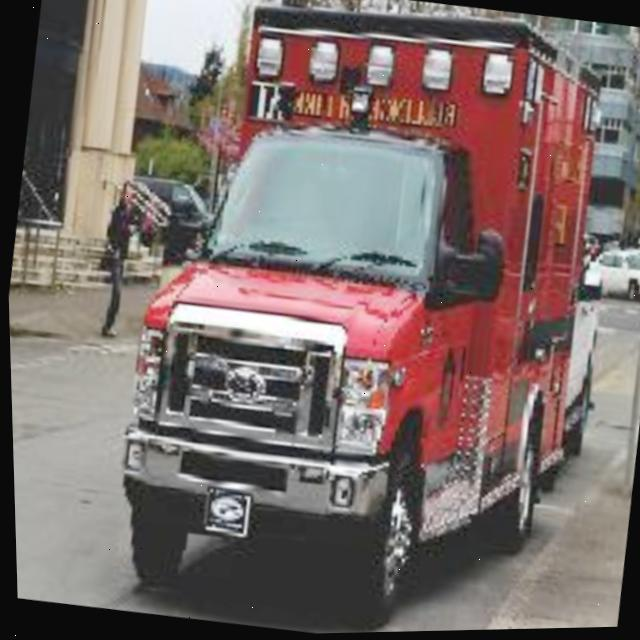emergency: (82, 0, 640, 639)
